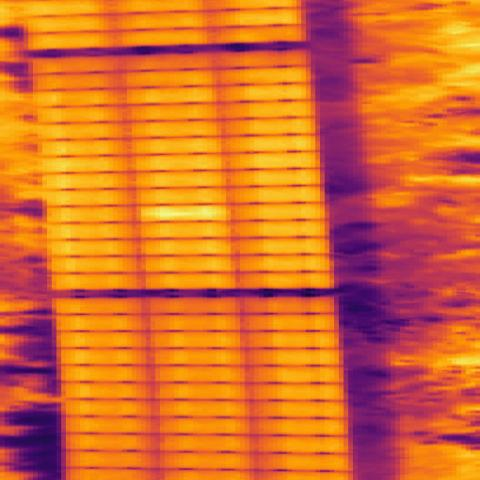fault: (130, 205, 230, 221)
